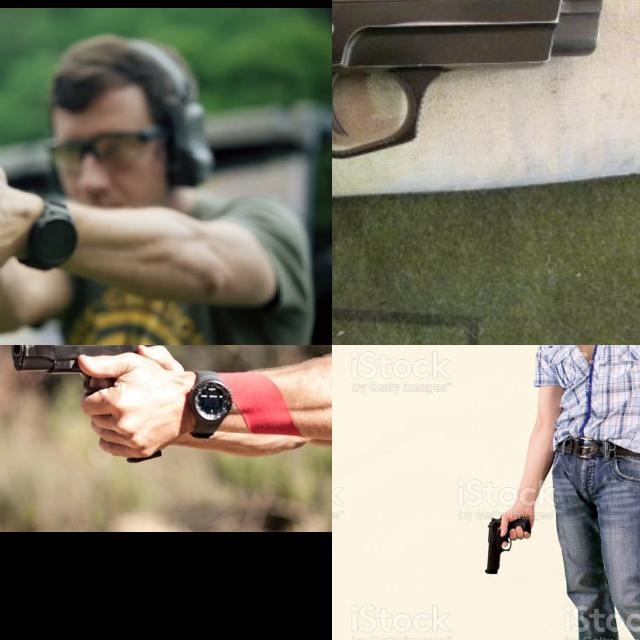handgun: (332, 0, 622, 345), (9, 345, 157, 396), (0, 112, 66, 221), (481, 510, 535, 578)
